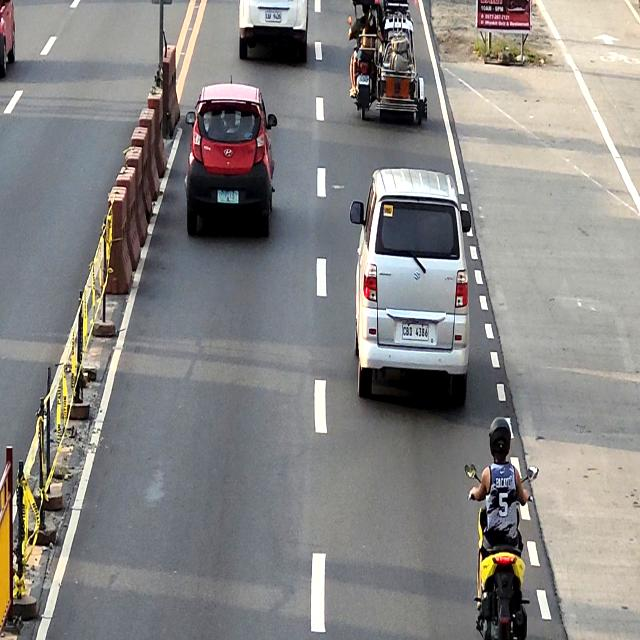Car: (350, 169, 472, 410), (186, 84, 277, 238), (239, 0, 309, 67)
License-Plate: (402, 323, 429, 342), (218, 190, 238, 204), (264, 12, 282, 22), (358, 75, 370, 84)
Motorcycle: (465, 461, 539, 640)
Tricycle: (346, 0, 426, 119)
